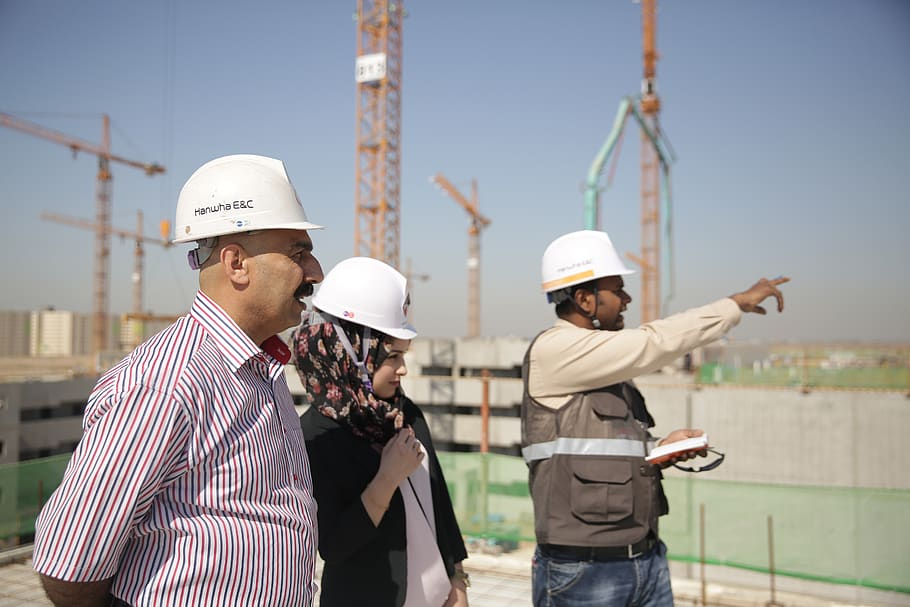Hard Hat: (167, 160, 326, 336), (299, 258, 417, 400), (541, 230, 632, 331)
Person: (40, 161, 315, 607), (511, 231, 795, 607), (321, 257, 472, 607)
